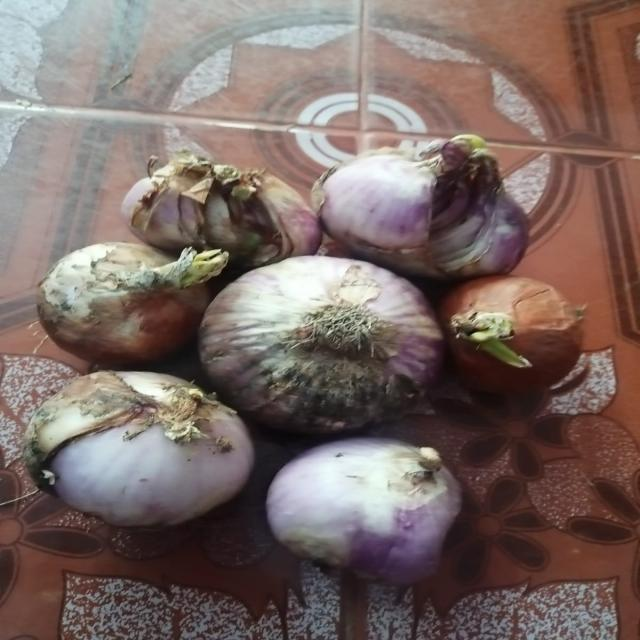rotten: (256, 353, 417, 420), (34, 386, 160, 466), (196, 170, 285, 250), (433, 174, 496, 266), (418, 503, 466, 562)
sprouting: (179, 252, 229, 284), (454, 310, 501, 344), (450, 128, 490, 152)
